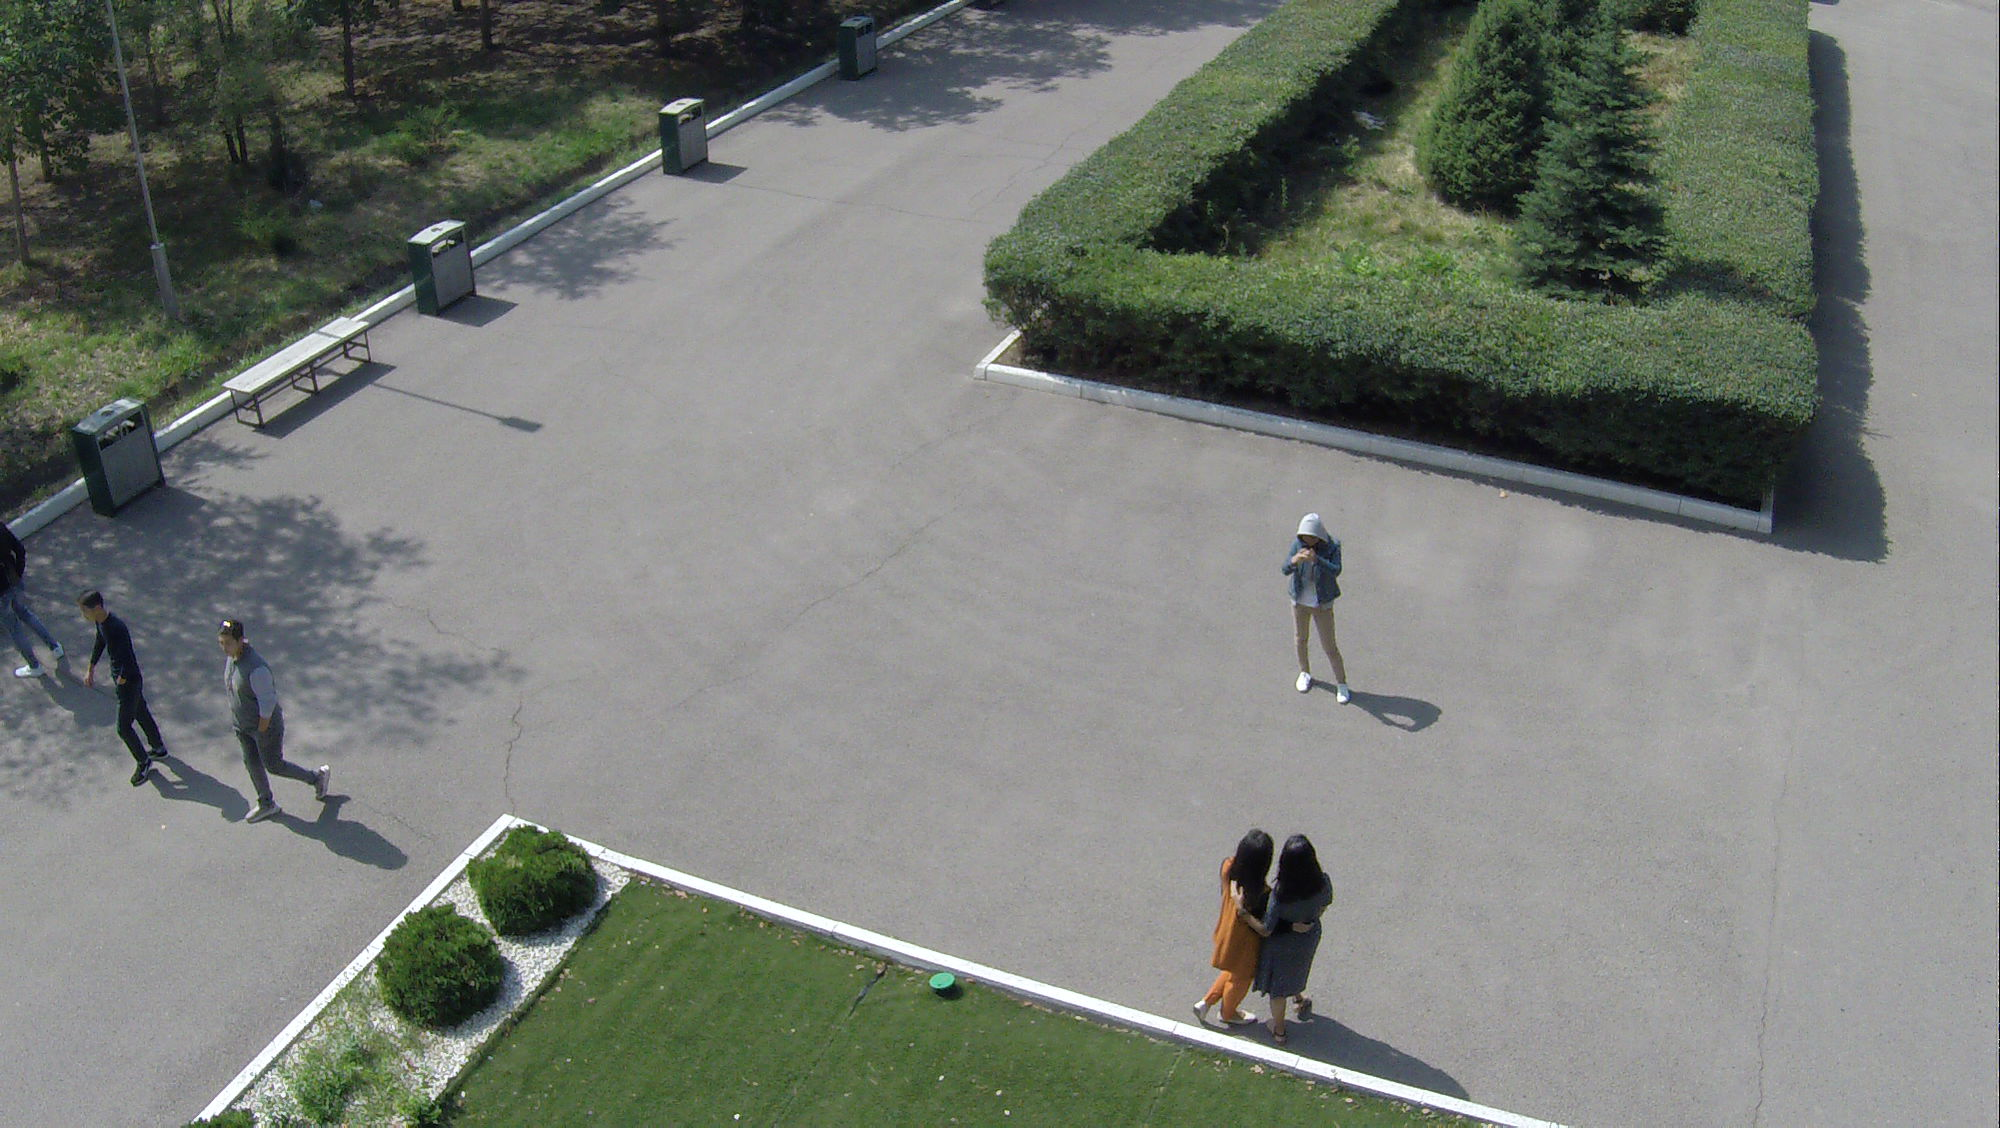person: (216, 620, 335, 843), (1253, 810, 1343, 1047), (1276, 505, 1376, 718), (85, 585, 157, 793), (1203, 818, 1257, 1037)
